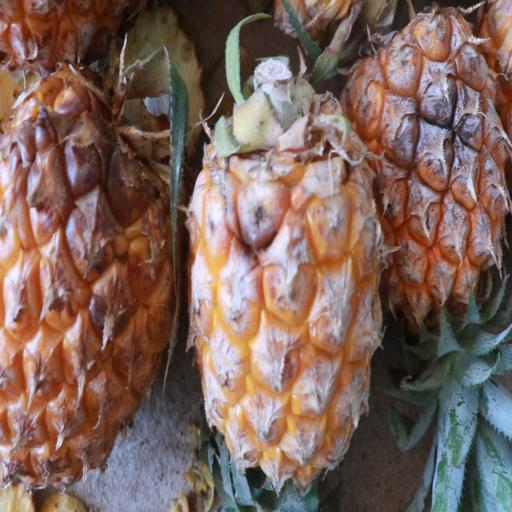Pineapple - v8 v1: (185, 78, 386, 512), (0, 56, 189, 512), (336, 0, 509, 385)
